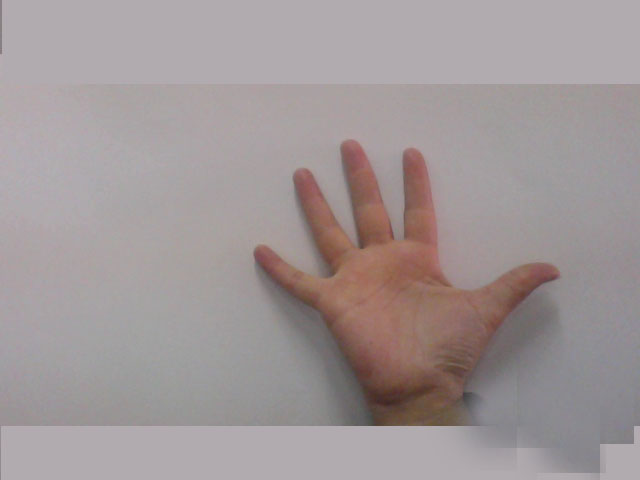hand: (246, 126, 569, 388)
